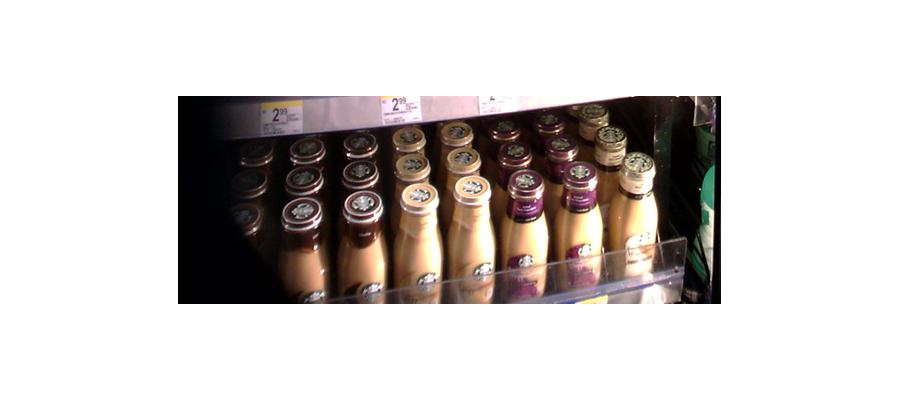bottle: (605, 154, 660, 292), (497, 163, 549, 301), (443, 173, 496, 305), (554, 157, 606, 291), (389, 180, 441, 305), (332, 184, 385, 302), (277, 191, 327, 298)
